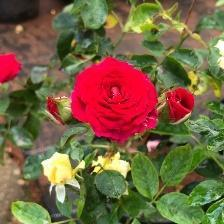rose: (69, 55, 162, 147), (168, 82, 198, 126)
